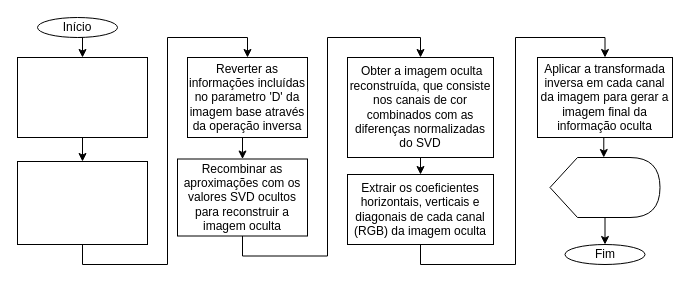
This 690x290 diagram has some shape labels left out. Each missing label, with the centre of its shape:
"Aplicar a transformada decodificadora em cada canal da imagem esteganografada" goes at point (82, 97).
"Plotar imagem oculta" goes at point (604, 187).
"Realizar a decomposição em valores singulares (SVD) da imagem esteganografada" goes at point (82, 202).
